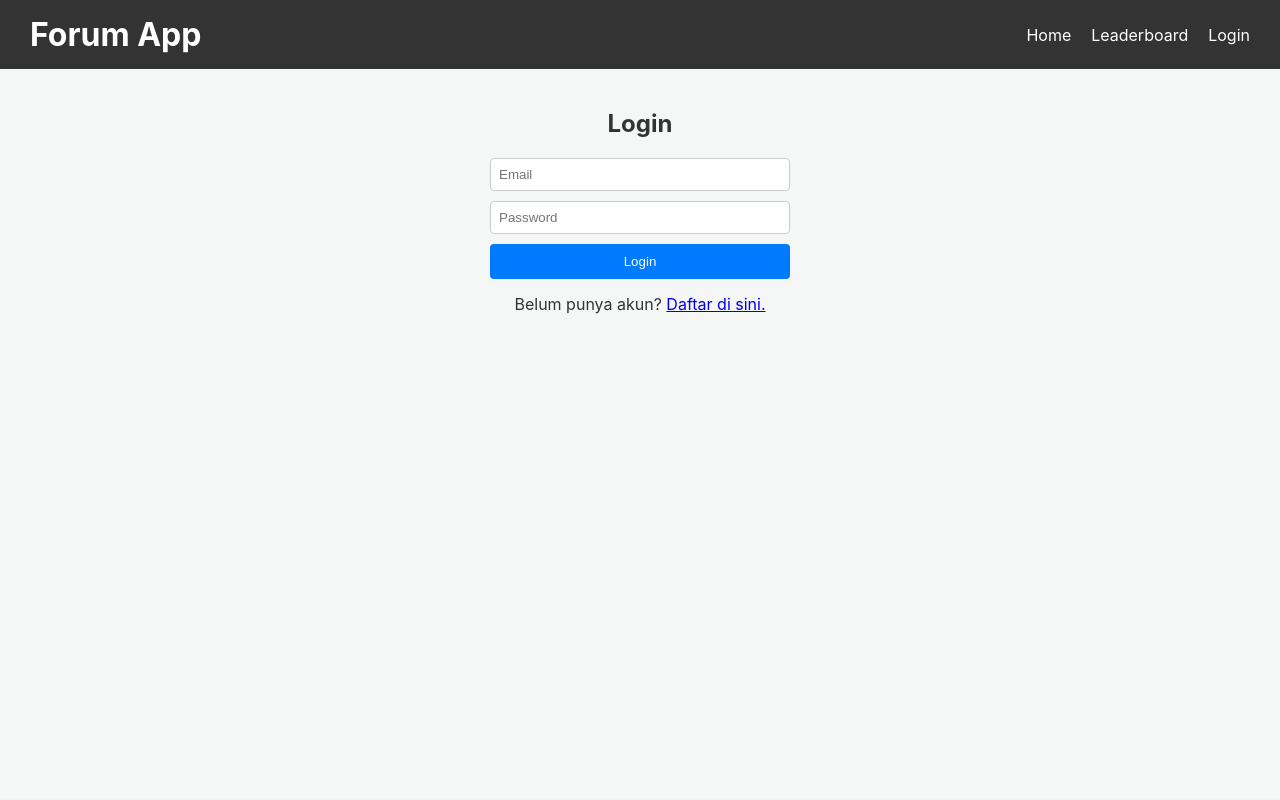
Test: Login Flow E2E Test › should login successfully with valid credentials
Step 1. Type "cypress@example.com" into the field with placeholder "Email" → (640, 175), box x1=490 y1=158 x2=790 y2=191
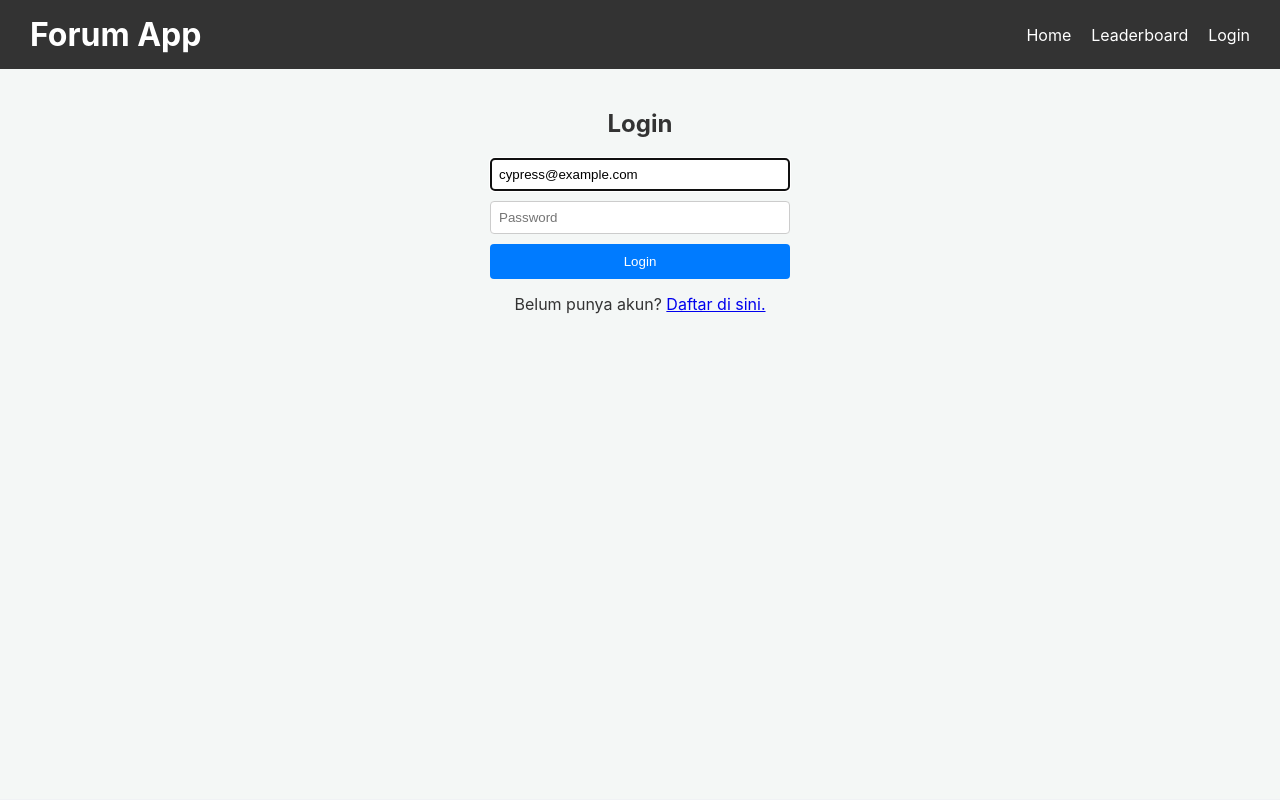
Step 2. Type "password123" into the password field with placeholder "Password" → (640, 218), box x1=490 y1=201 x2=790 y2=234
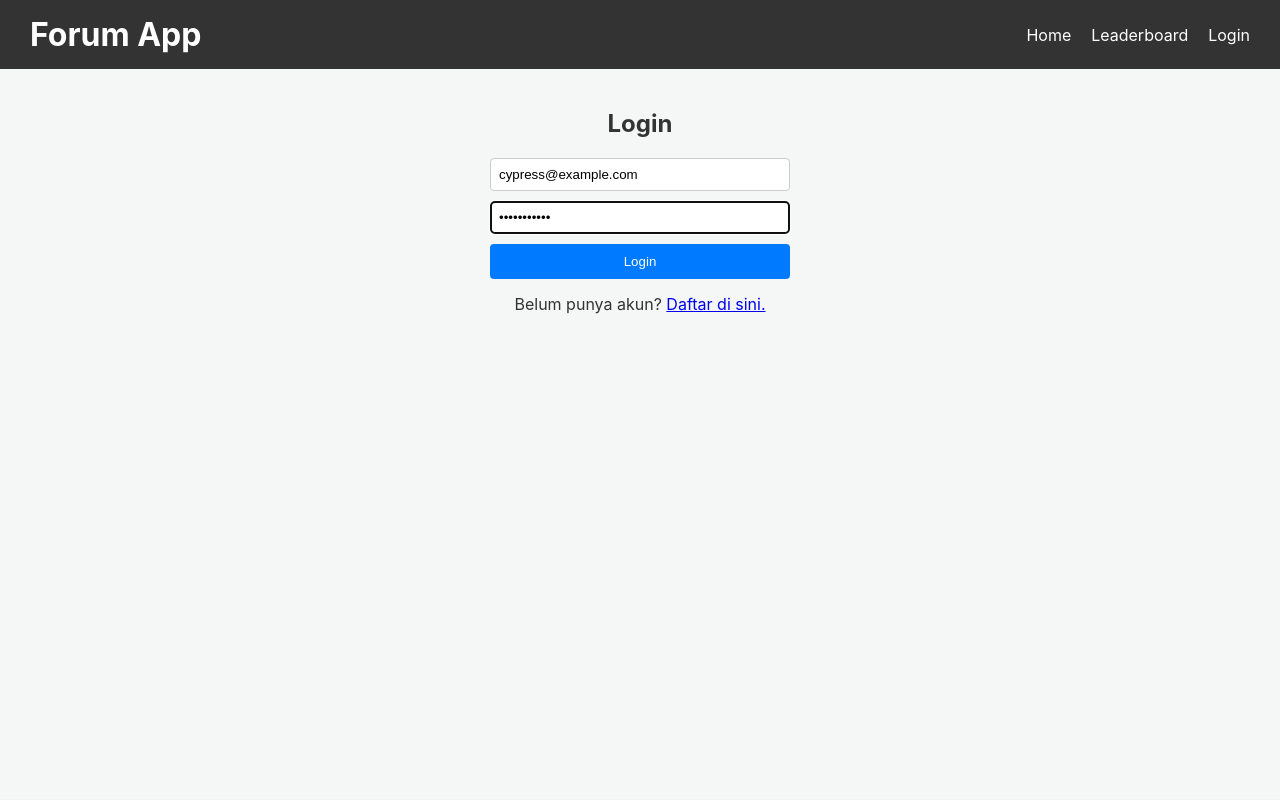
Step 3. Click the submit button → (640, 262), box x1=490 y1=244 x2=790 y2=279
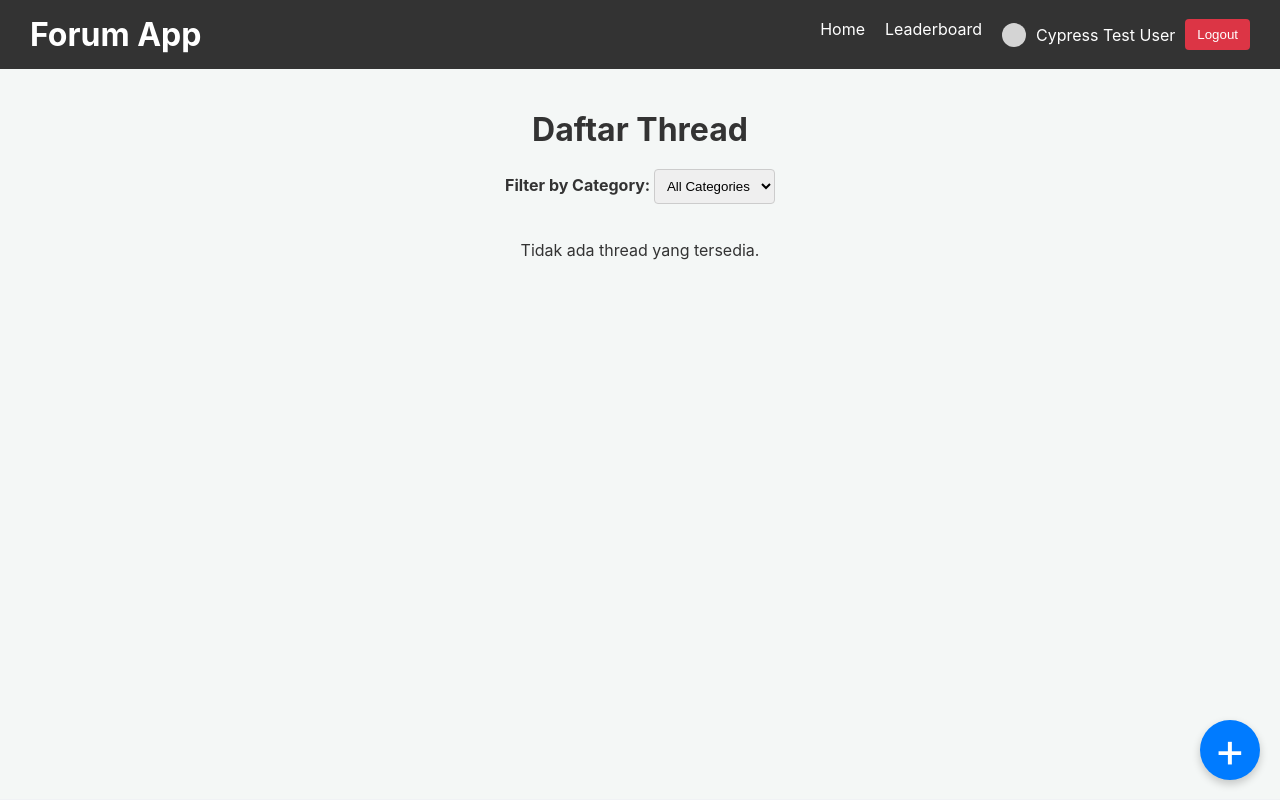
Expected: the link "Forum App" is shown, x1=30 y1=15 x2=202 y2=54
Result: the text "Cypress Test User" is shown at x1=1036 y1=24 x2=1175 y2=44
